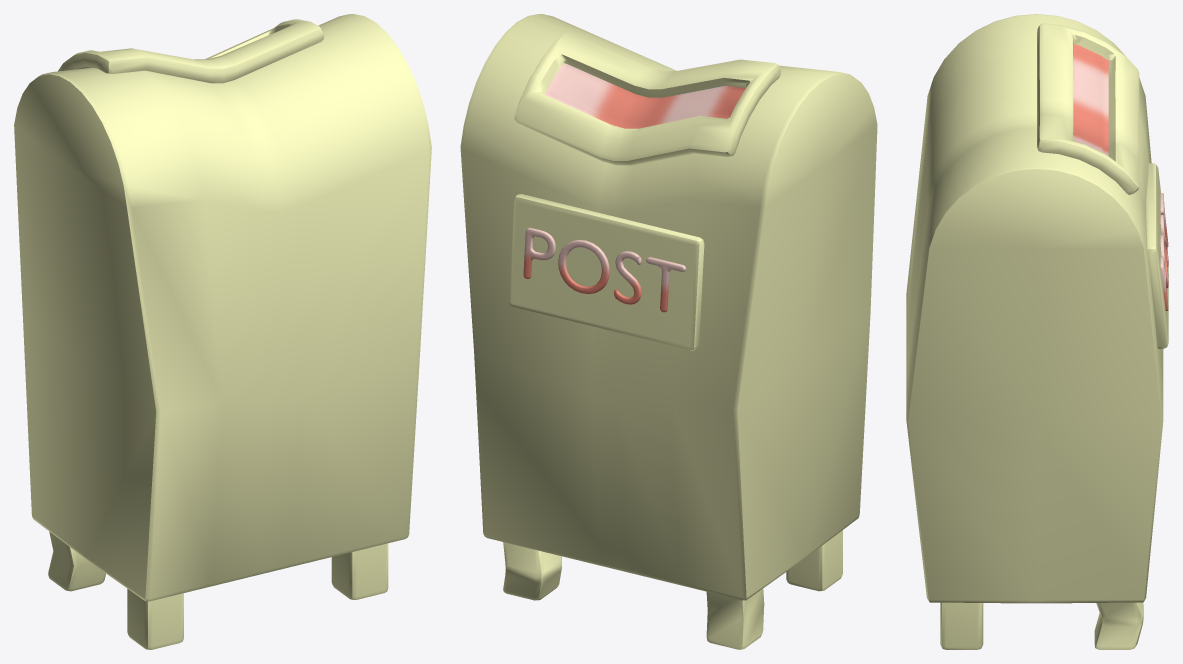
Rendered from MailboxB_blue.fbx.
The picture shows the model from 3 angles, left to right: view 1: azimuth 30°, elevation 25°; view 2: azimuth 150°, elevation 25°; view 3: azimuth 270°, elevation 25°; orthographic projection. The views are drawn at different scales.
Parts seen in each view (by area): view 1: MailboxB_base, MailboxB_stands, MailboxB_detail; view 2: MailboxB_base, MailboxB_detail, MailboxB_stands; view 3: MailboxB_base, MailboxB_detail, MailboxB_stands.
Boxes of the visible parts, left/top/right/bottom form: MailboxB_base: left=14, top=14, right=431, bottom=601; MailboxB_stands: left=48, top=531, right=388, bottom=649; MailboxB_detail: left=58, top=19, right=323, bottom=83; MailboxB_base: left=460, top=14, right=877, bottom=600; MailboxB_detail: left=509, top=31, right=780, bottom=350; MailboxB_stands: left=503, top=530, right=842, bottom=649; MailboxB_base: left=906, top=14, right=1163, bottom=603; MailboxB_detail: left=1037, top=23, right=1168, bottom=349; MailboxB_stands: left=940, top=602, right=1143, bottom=649.
Size of the model in its own units: 137 by 235 by 107.
